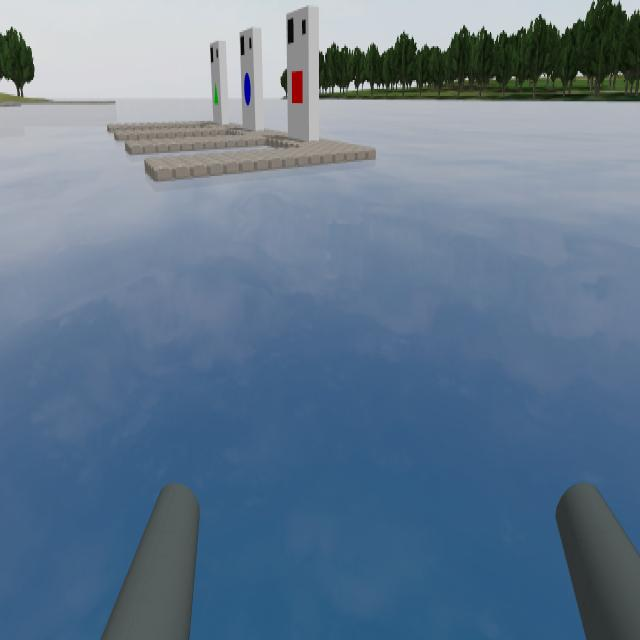dock: (285, 3, 321, 142), (236, 25, 264, 133), (207, 37, 233, 129)
